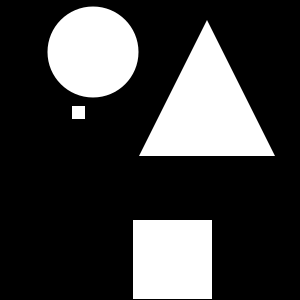circle: (133, 220, 212, 299), (72, 106, 85, 119)
rectangle: (48, 6, 138, 98)
triangle: (139, 20, 275, 156)
